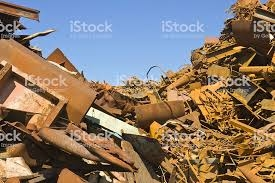metal: (1, 61, 71, 136), (64, 117, 138, 177), (33, 125, 96, 164), (128, 94, 187, 125), (189, 85, 236, 123), (226, 116, 275, 146), (234, 63, 275, 75)
